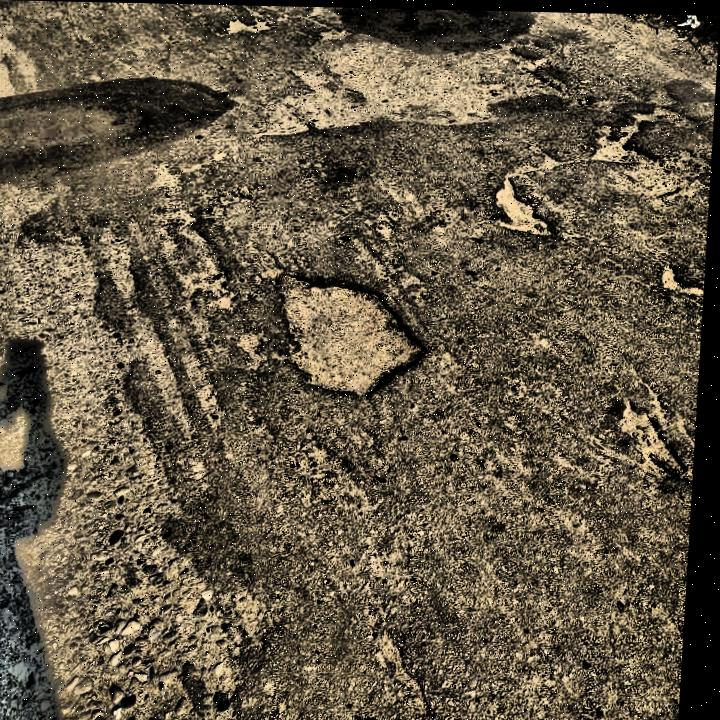pothole: (269, 264, 438, 400), (619, 395, 696, 473), (492, 173, 562, 238), (587, 120, 660, 167)
